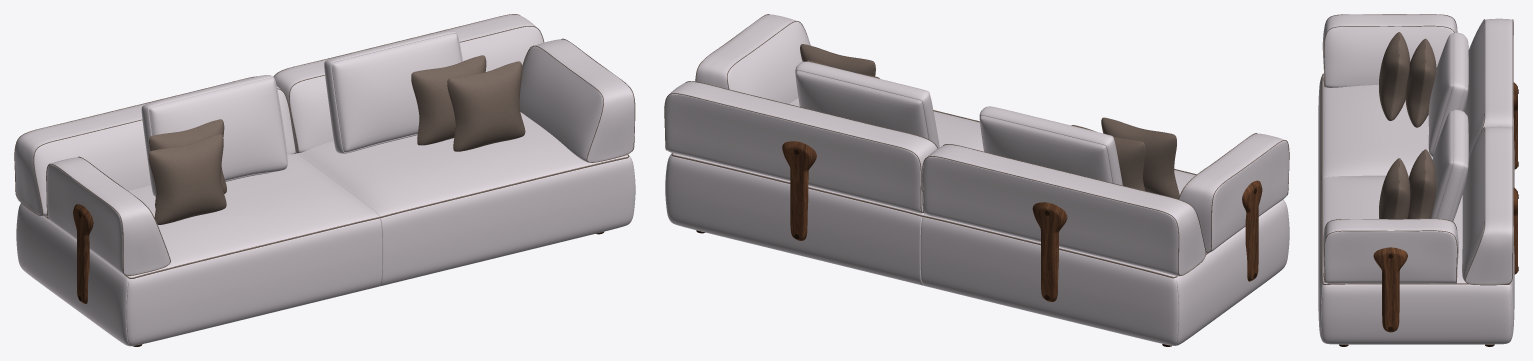
The model's file is SBH_ABENA.glb.
3 views of the same model, side by side, from view 1: azimuth 30°, elevation 25°; view 2: azimuth 150°, elevation 25°; view 3: azimuth 270°, elevation 25° (orthographic). The views are drawn at different scales.
Parts seen in each view (by area): view 1: Abena; view 2: Abena; view 3: Abena.
Part boxes in pixels (<box>): Abena: <box>14,14,635,346</box>; Abena: <box>664,14,1289,346</box>; Abena: <box>1318,14,1518,346</box>.
Size of the model in its own units: 2.77 by 0.8789 by 1.06.
Materials: 4 (3 with a texture image).
